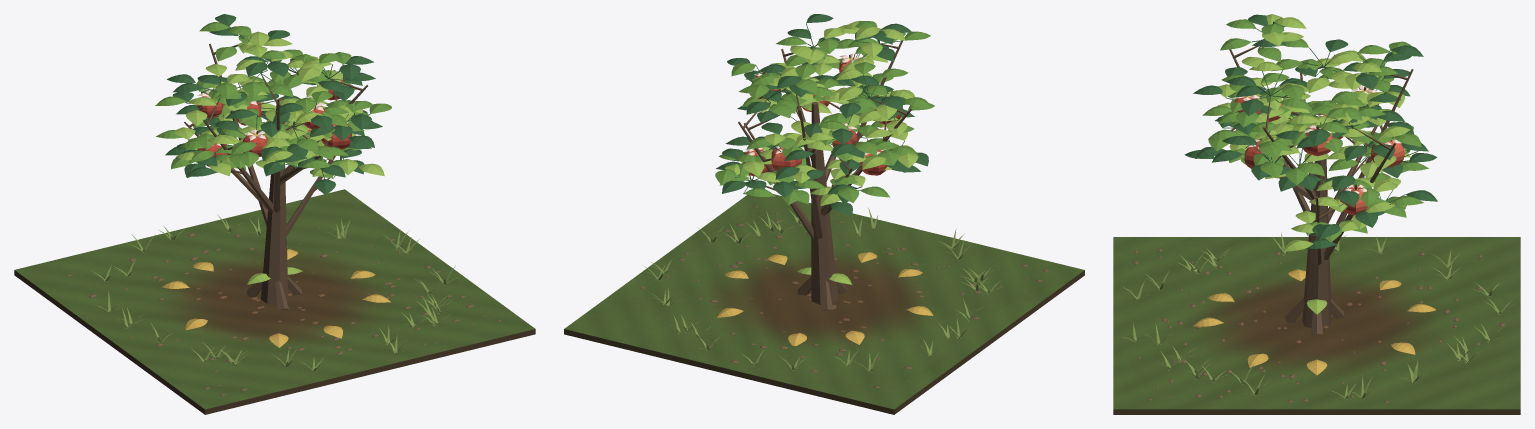
The model's file is apple-tree.glb.
3 views of the same model, side by side, from view 1: azimuth 30°, elevation 25°; view 2: azimuth 150°, elevation 25°; view 3: azimuth 270°, elevation 25° (orthographic). The views are drawn at different scales.
Parts seen in each view (by area): view 1: Static_mesh, Foliage.007_mesh, Foliage.004_mesh, Foliage.006_mesh, Foliage.005_mesh, Foliage.002_mesh, Trunk_mesh, Foliage.001_mesh, Foliage.003_mesh, Foliage_mesh, Branch.004_mesh; view 2: Static_mesh, Foliage.006_mesh, Foliage.003_mesh, Foliage.001_mesh, Foliage.004_mesh, Trunk_mesh, Foliage.007_mesh, Foliage.005_mesh, Foliage_mesh, Foliage.002_mesh, Branch.006_mesh, Branch.003_mesh; view 3: Static_mesh, Foliage.005_mesh, Foliage.003_mesh, Foliage_mesh, Foliage.006_mesh, Foliage.007_mesh, Trunk_mesh, Foliage.002_mesh, Foliage.004_mesh, Foliage.001_mesh, Branch.003_mesh, Branch.006_mesh.
Boxes of the visible parts, x1,y1,x2,y2 form: Static_mesh: (14,189,535,414); Foliage.007_mesh: (235,45,348,176); Foliage.004_mesh: (173,64,294,177); Foliage.006_mesh: (155,14,292,137); Foliage.005_mesh: (292,52,391,135); Foliage.002_mesh: (260,100,374,194); Trunk_mesh: (246,98,301,310); Foliage.001_mesh: (156,77,247,176); Foliage.003_mesh: (229,49,321,140); Foliage_mesh: (266,100,384,178); Branch.004_mesh: (203,98,273,212); Static_mesh: (564,194,1084,414); Foliage.006_mesh: (758,63,892,205); Foliage.003_mesh: (715,76,832,196); Foliage.001_mesh: (784,113,913,215); Foliage.004_mesh: (821,62,934,172); Trunk_mesh: (797,102,846,310); Foliage.007_mesh: (814,20,930,127); Foliage.005_mesh: (727,14,858,112); Foliage_mesh: (719,93,831,185); Foliage.002_mesh: (787,69,893,131); Branch.006_mesh: (795,94,822,238); Branch.003_mesh: (738,99,813,238); Static_mesh: (1113,237,1520,414); Foliage.005_mesh: (1222,56,1368,180); Foliage.003_mesh: (1305,103,1437,229); Foliage_mesh: (1265,144,1397,251); Foliage.006_mesh: (1319,41,1436,178); Foliage.007_mesh: (1193,14,1306,150); Trunk_mesh: (1285,116,1344,334); Foliage.002_mesh: (1184,90,1293,165); Foliage.004_mesh: (1228,39,1366,126); Foliage.001_mesh: (1276,91,1413,172); Branch.003_mesh: (1324,127,1395,259); Branch.006_mesh: (1336,69,1413,224).
Bounding box in the file's own units: 3.5 × 2.79 × 3.5.
